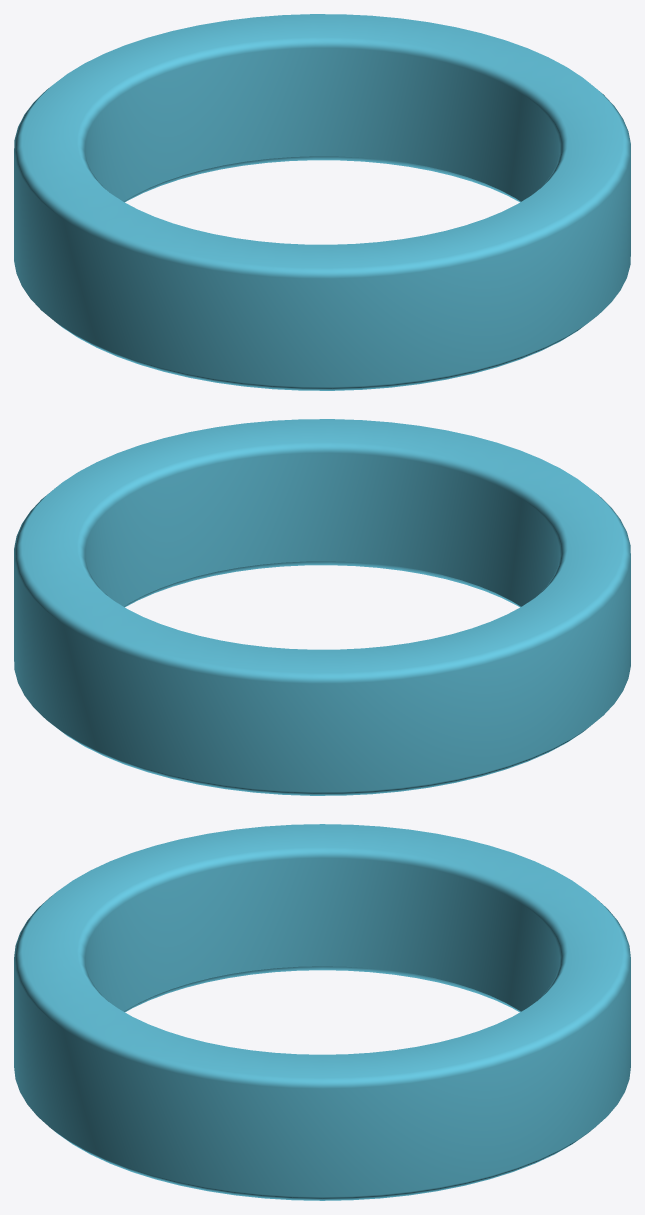
The picture shows the model from 3 angles, top to bottom: view 1: azimuth 30°, elevation 25°; view 2: azimuth 150°, elevation 25°; view 3: azimuth 270°, elevation 25°; orthographic projection.
Parts seen in each view (by area): view 1: seal_body; view 2: seal_body; view 3: seal_body.
Part boxes in pixels (left/top/right/bottom): seal_body: left=14, top=14, right=630, bottom=390; seal_body: left=14, top=419, right=630, bottom=795; seal_body: left=14, top=824, right=630, bottom=1200.
Size of the model in its own units: 0.0455 by 0.01 by 0.0455.
